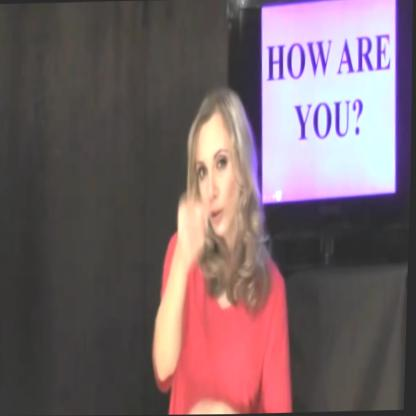HowAreYou: (164, 175, 256, 324)
